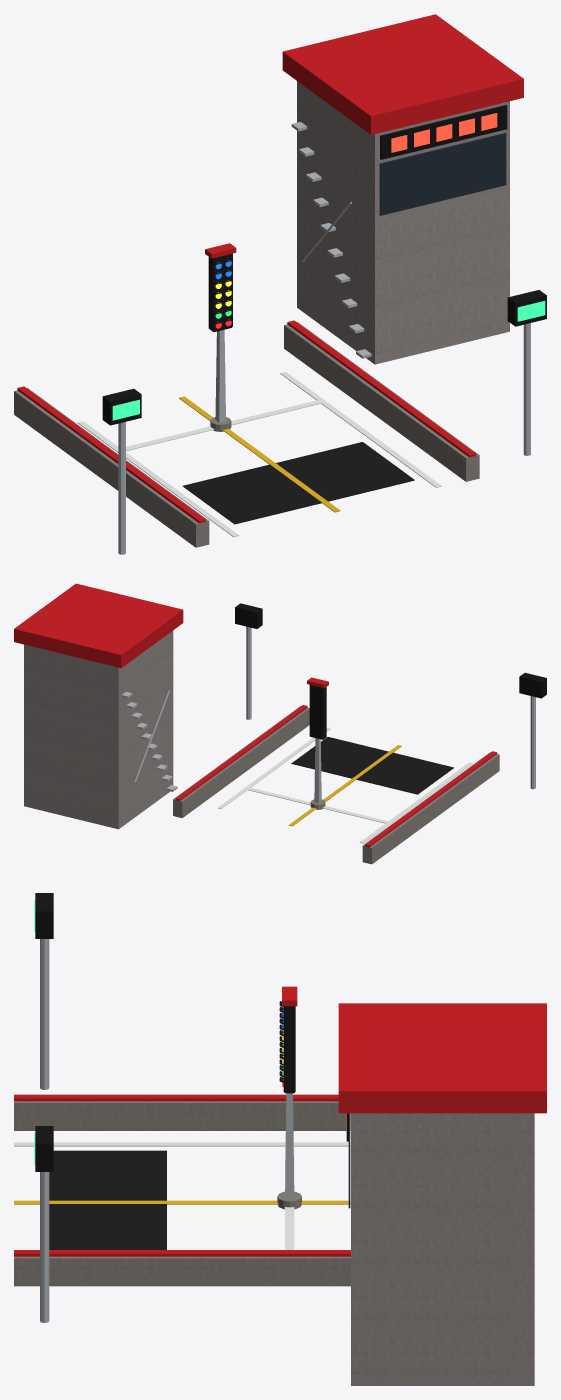
File: OT_DragStartTower.glb
3 views of the same model, one above another, from view 1: azimuth 30°, elevation 25°; view 2: azimuth 150°, elevation 25°; view 3: azimuth 270°, elevation 25° (orthographic). The views are drawn at different scales.
Parts seen in each view (by area): view 1: OT_DragStartTower_Block, OT_DragStartTower_OTRed__d0181e, OT_DragStartTower_Concrete, OT_DragStartTower_BurnoutStain__1a1a1a, OT_DragStartTower_Glass__22303a, OT_DragStartTower_Galv__b4b9bf, OT_DragStartTower_TimeBoard__121212, OT_DragStartTower_PaintWhite__f0f0ee, OT_DragStartTower_TreeBody__151515, OT_DragStartTower_Digit__ff3a2a, OT_DragStartTower_PaintYellow__e8b81e, OT_DragStartTower_Digit2__2aff6a; view 2: OT_DragStartTower_Block, OT_DragStartTower_OTRed__d0181e, OT_DragStartTower_Concrete, OT_DragStartTower_BurnoutStain__1a1a1a, OT_DragStartTower_Galv__b4b9bf, OT_DragStartTower_PaintWhite__f0f0ee, OT_DragStartTower_TimeBoard__121212, OT_DragStartTower_TreeBody__151515, OT_DragStartTower_PaintYellow__e8b81e; view 3: OT_DragStartTower_Block, OT_DragStartTower_OTRed__d0181e, OT_DragStartTower_Concrete, OT_DragStartTower_BurnoutStain__1a1a1a, OT_DragStartTower_Galv__b4b9bf, OT_DragStartTower_PaintWhite__f0f0ee, OT_DragStartTower_TimeBoard__121212, OT_DragStartTower_TreeBody__151515, OT_DragStartTower_PaintYellow__e8b81e.
Part boxes in pixels (<box>): OT_DragStartTower_Block: <box>297,81,509,364</box>; OT_DragStartTower_OTRed__d0181e: <box>17,14,523,523</box>; OT_DragStartTower_Concrete: <box>14,322,479,547</box>; OT_DragStartTower_BurnoutStain__1a1a1a: <box>182,442,414,524</box>; OT_DragStartTower_Glass__22303a: <box>379,133,506,215</box>; OT_DragStartTower_Galv__b4b9bf: <box>118,122,530,554</box>; OT_DragStartTower_TimeBoard__121212: <box>102,105,546,425</box>; OT_DragStartTower_PaintWhite__f0f0ee: <box>77,371,441,537</box>; OT_DragStartTower_TreeBody__151515: <box>208,253,233,331</box>; OT_DragStartTower_Digit__ff3a2a: <box>391,113,497,152</box>; OT_DragStartTower_PaintYellow__e8b81e: <box>179,396,340,512</box>; OT_DragStartTower_Digit2__2aff6a: <box>112,301,545,420</box>; OT_DragStartTower_Block: <box>24,630,173,829</box>; OT_DragStartTower_OTRed__d0181e: <box>14,583,497,847</box>; OT_DragStartTower_Concrete: <box>173,706,499,864</box>; OT_DragStartTower_BurnoutStain__1a1a1a: <box>291,737,453,794</box>; OT_DragStartTower_Galv__b4b9bf: <box>121,626,535,803</box>; OT_DragStartTower_PaintWhite__f0f0ee: <box>218,727,472,843</box>; OT_DragStartTower_TimeBoard__121212: <box>235,603,546,698</box>; OT_DragStartTower_TreeBody__151515: <box>309,685,326,739</box>; OT_DragStartTower_PaintYellow__e8b81e: <box>288,745,401,826</box>; OT_DragStartTower_Block: <box>351,1113,534,1385</box>; OT_DragStartTower_OTRed__d0181e: <box>14,986,546,1256</box>; OT_DragStartTower_Concrete: <box>14,1101,350,1286</box>; OT_DragStartTower_BurnoutStain__1a1a1a: <box>49,1150,166,1249</box>; OT_DragStartTower_Galv__b4b9bf: <box>40,939,294,1322</box>; OT_DragStartTower_PaintWhite__f0f0ee: <box>14,1142,350,1249</box>; OT_DragStartTower_TimeBoard__121212: <box>35,893,348,1171</box>; OT_DragStartTower_TreeBody__151515: <box>279,1001,295,1093</box>; OT_DragStartTower_PaintYellow__e8b81e: <box>14,1200,350,1204</box>.
Size of the model in its own units: 24.1 by 10.8 by 17.4.
Materials: 17 (2 with a texture image).
